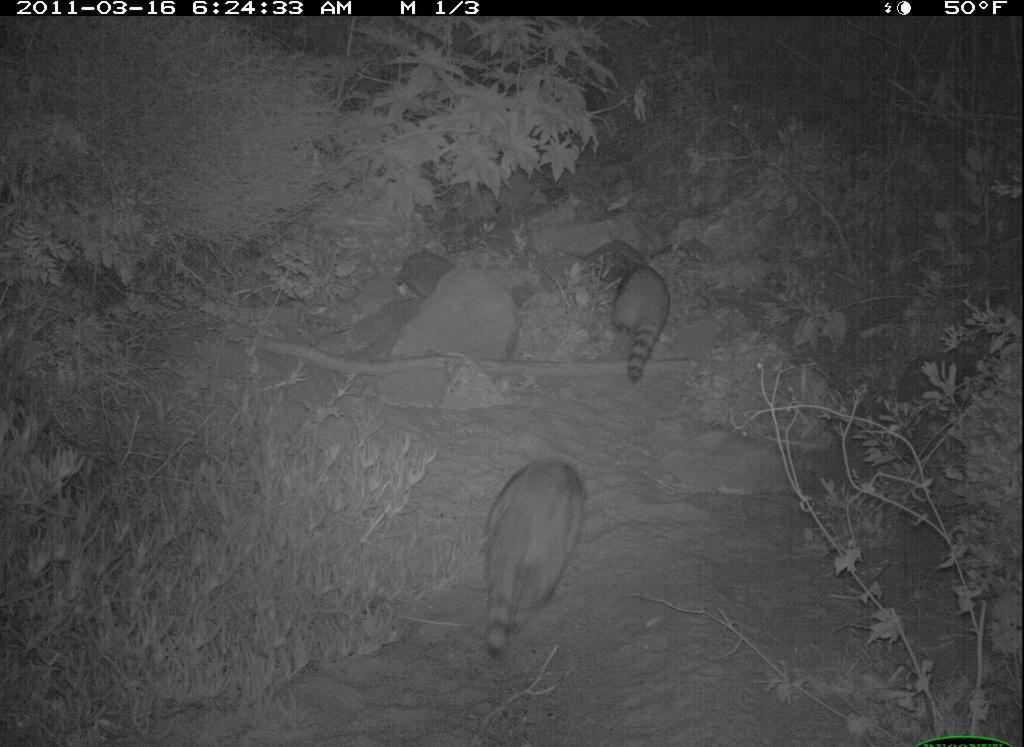raccoon: (472, 440, 593, 675), (593, 250, 684, 381)
